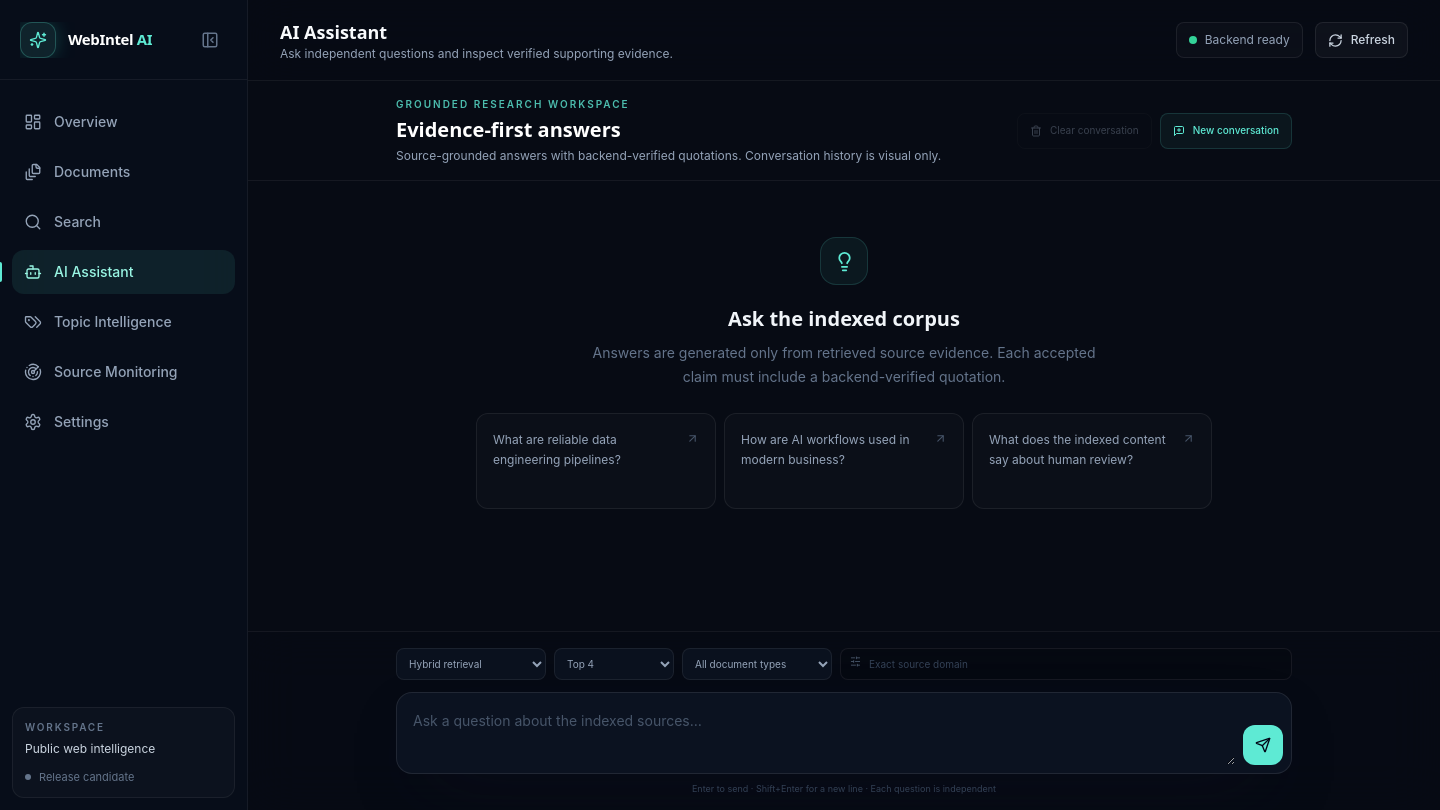
Test: AssistantPage › cancels an in-flight generation and allows retry
In the text box labelled "question": (820, 732) [405,700,1235,764], type "What makes intelligence pipelines reliable?"
Then press Enter
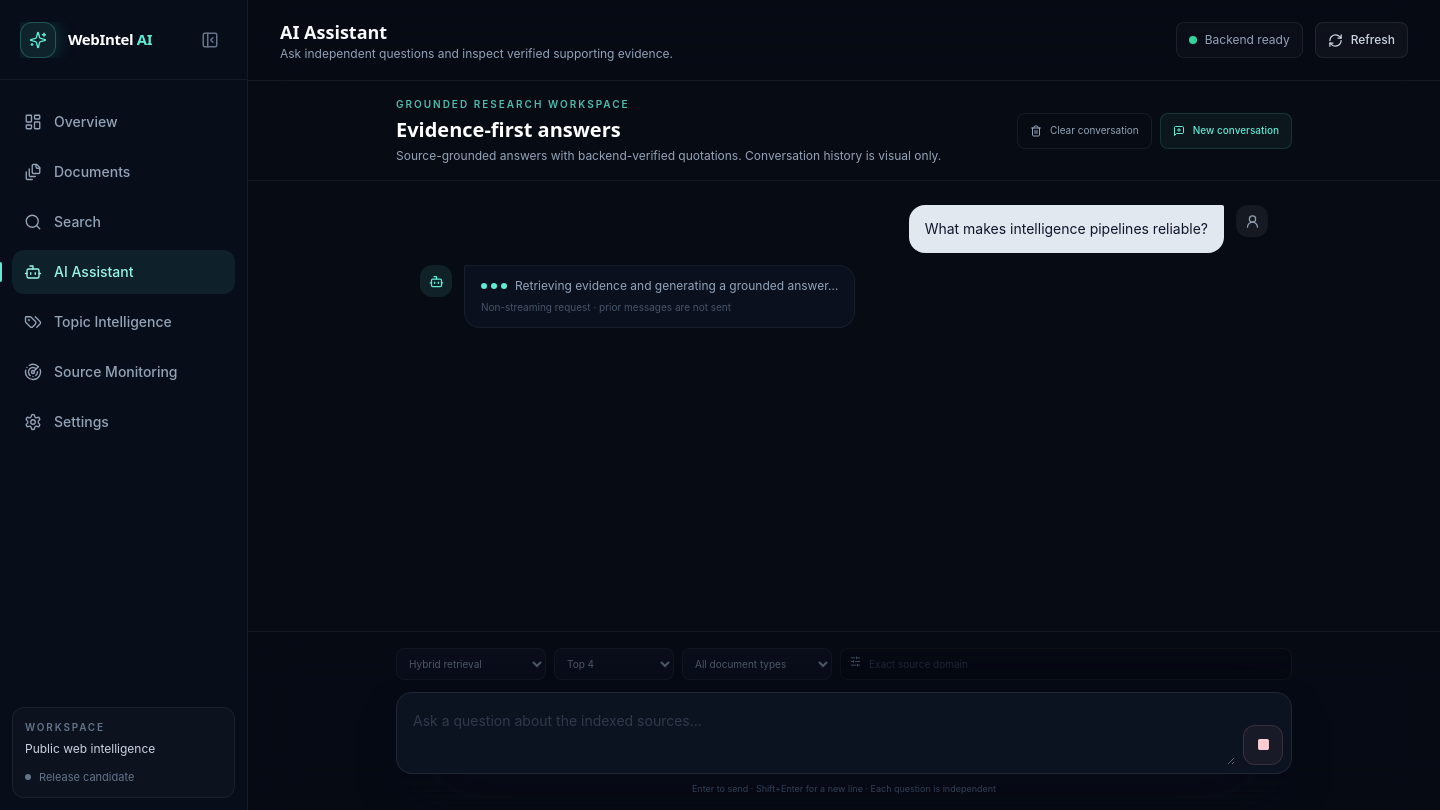
Click the button named "Cancel generation": (1263, 744) [1243,724,1283,764]
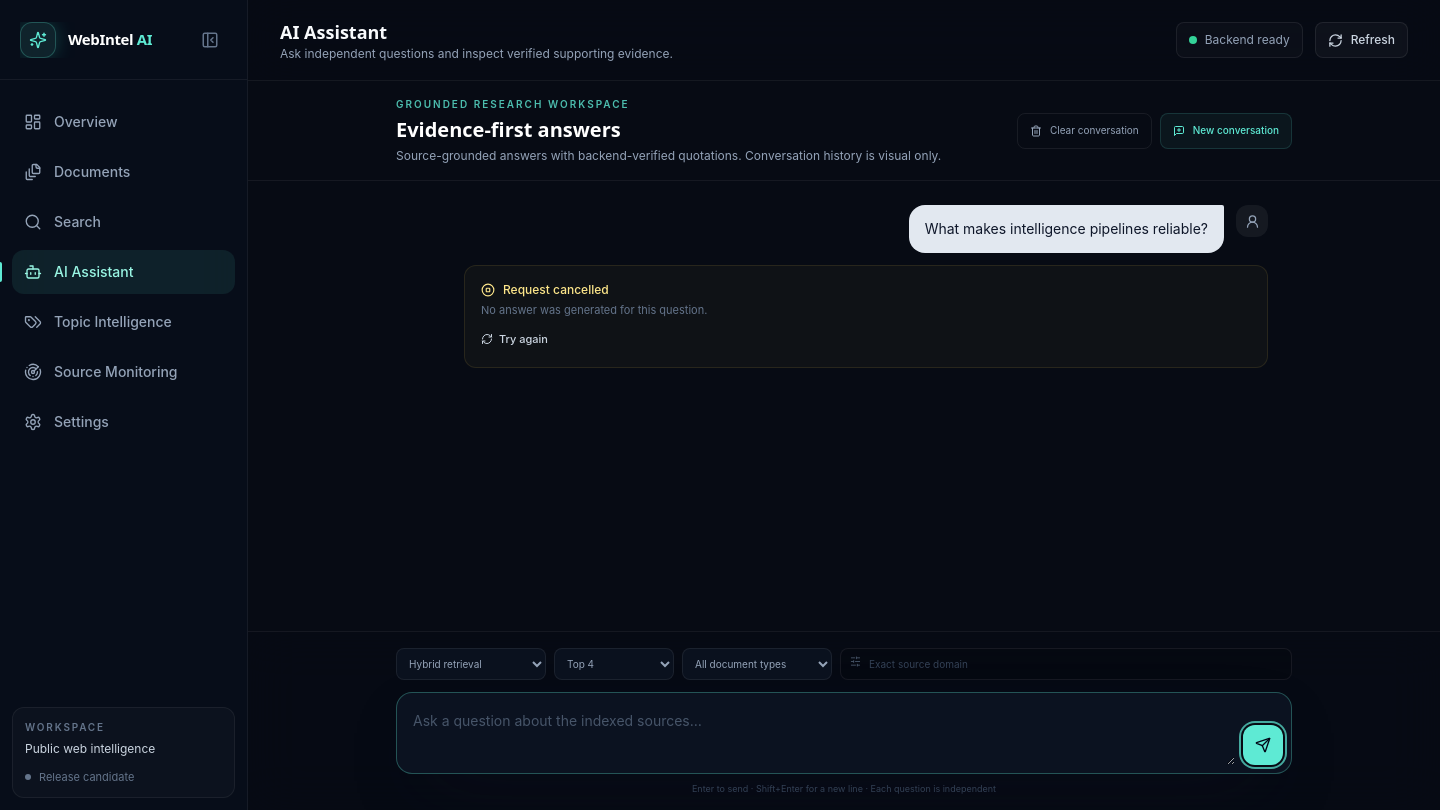
Expected: the text "Request cancelled" is shown, [481,282,609,297]
Expected: the button "Try again" is shown, [481,330,548,347]
